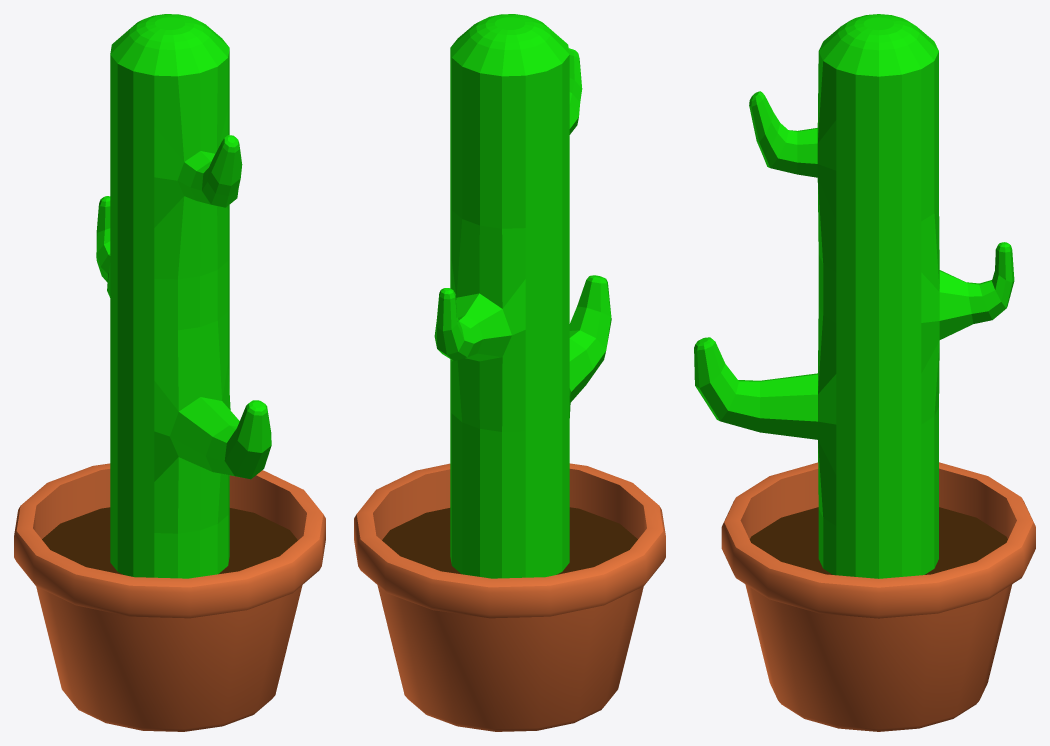
Rendered from Cactus01.fbx.
The picture shows the model from 3 angles, left to right: view 1: azimuth 30°, elevation 25°; view 2: azimuth 150°, elevation 25°; view 3: azimuth 270°, elevation 25°; orthographic projection.
Visible parts, largest first — view 1: Cactus, Maseta; view 2: Cactus, Maseta; view 3: Cactus, Maseta.
Part boxes in pixels (x1,y1,x2,y2): Cactus: (96, 14, 271, 578); Maseta: (14, 463, 325, 731); Cactus: (434, 14, 611, 578); Maseta: (354, 463, 665, 731); Cactus: (694, 14, 1014, 578); Maseta: (721, 462, 1035, 731).
Size of the model in its own units: 61.37 by 143 by 66.77.
